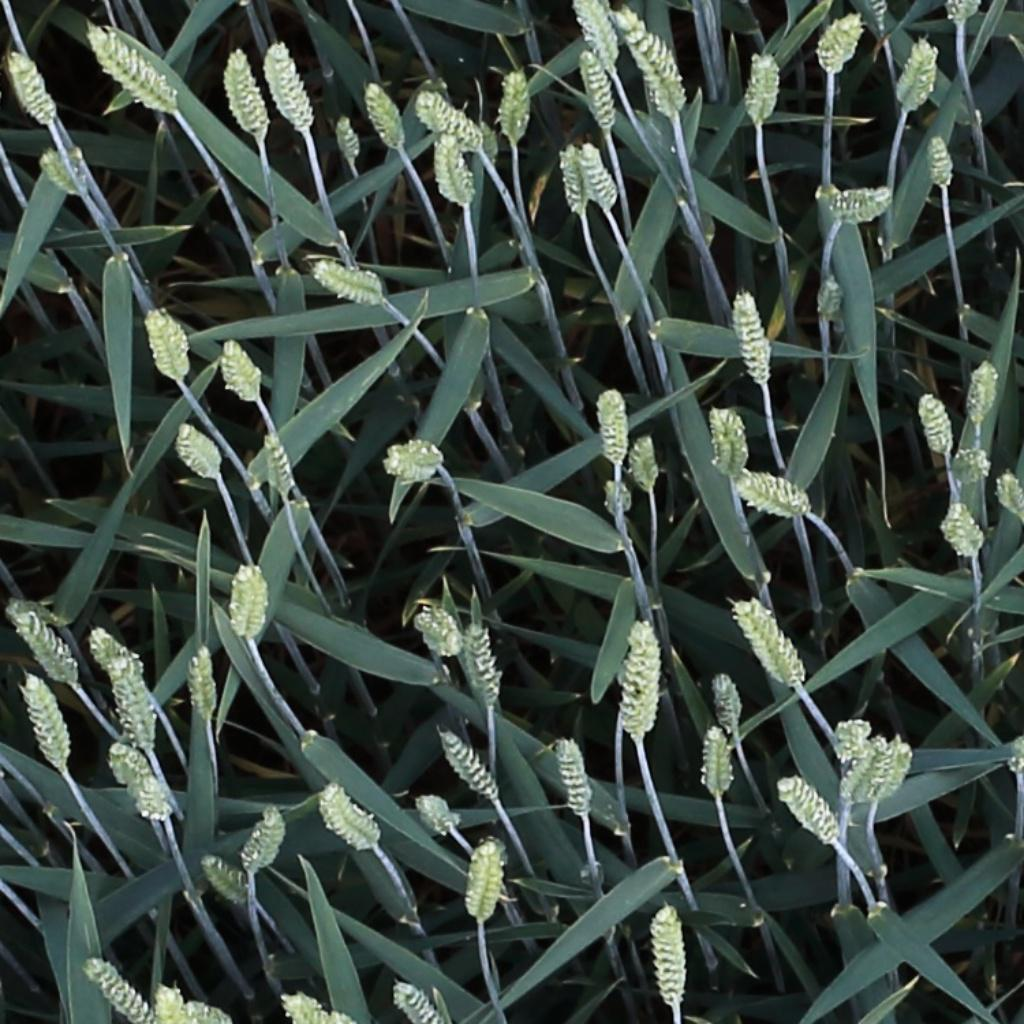0-0: (86, 23, 177, 116), (612, 7, 685, 120), (107, 739, 184, 822), (102, 636, 155, 756), (734, 598, 802, 690), (611, 618, 661, 734), (9, 607, 79, 689), (438, 726, 505, 808), (20, 671, 70, 776), (81, 954, 154, 1024), (266, 36, 315, 136), (778, 776, 845, 849), (320, 783, 383, 856), (4, 47, 58, 129), (646, 902, 685, 1013), (735, 282, 774, 389), (843, 732, 897, 809), (225, 43, 268, 139), (366, 432, 446, 483), (419, 90, 487, 148), (735, 47, 780, 134), (574, 0, 625, 76), (361, 76, 409, 154), (143, 303, 188, 386), (578, 45, 619, 135), (555, 734, 595, 824), (734, 466, 809, 514), (895, 36, 939, 117), (577, 135, 622, 214), (465, 621, 503, 711), (695, 722, 739, 799), (592, 380, 628, 471), (820, 6, 866, 77), (876, 735, 918, 812), (219, 333, 264, 404), (174, 419, 225, 481), (228, 563, 269, 640), (469, 834, 502, 928), (312, 260, 387, 301), (438, 125, 473, 210), (918, 386, 957, 462), (87, 626, 145, 677), (703, 674, 745, 742), (200, 856, 252, 910), (712, 401, 746, 483), (260, 425, 296, 502), (36, 143, 87, 197), (247, 804, 283, 880), (492, 64, 528, 140), (944, 499, 987, 561), (623, 427, 660, 495), (189, 641, 218, 727), (237, 811, 273, 879), (561, 137, 591, 218), (421, 604, 464, 660), (968, 356, 998, 430), (415, 794, 460, 841), (393, 978, 441, 1022), (281, 993, 348, 1024), (835, 713, 871, 769), (830, 191, 897, 221), (993, 465, 1024, 528), (333, 107, 363, 166), (928, 125, 954, 192), (819, 267, 846, 326), (152, 976, 184, 1024), (955, 447, 991, 487), (178, 1000, 230, 1024), (948, 0, 978, 31)
